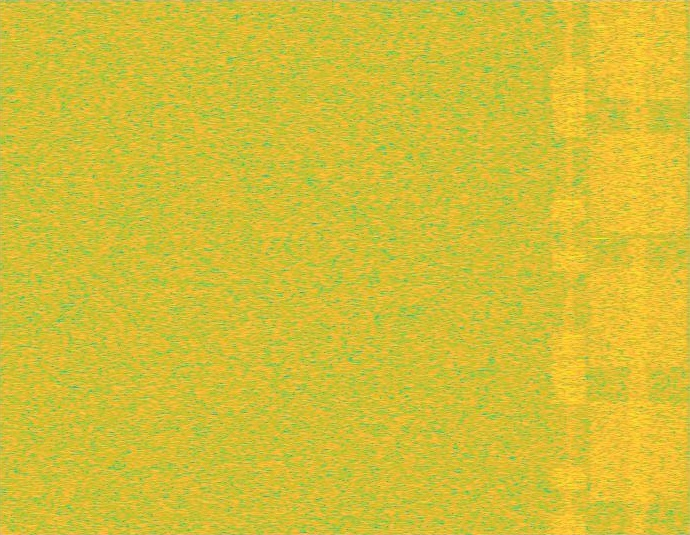5G: (587, 0, 689, 534)
DSSS: (627, 0, 650, 534), (565, 0, 573, 534)
LTE: (552, 0, 587, 534)
Radar: (594, 0, 608, 534)
